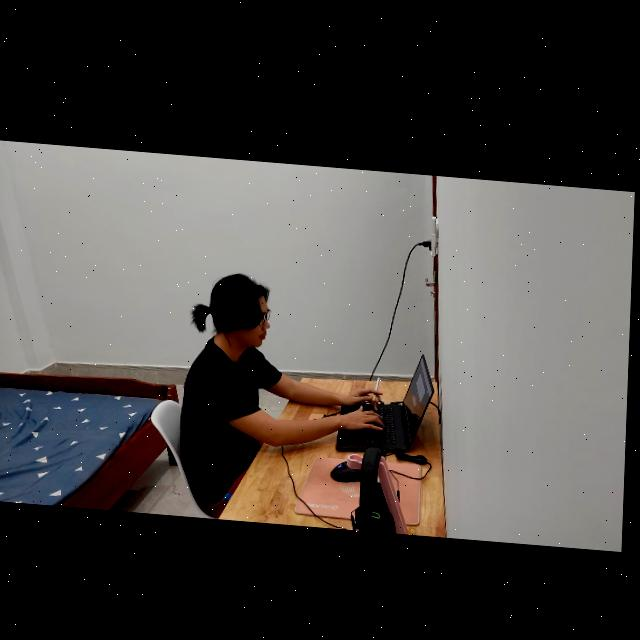cigarette: (374, 371, 383, 395)
